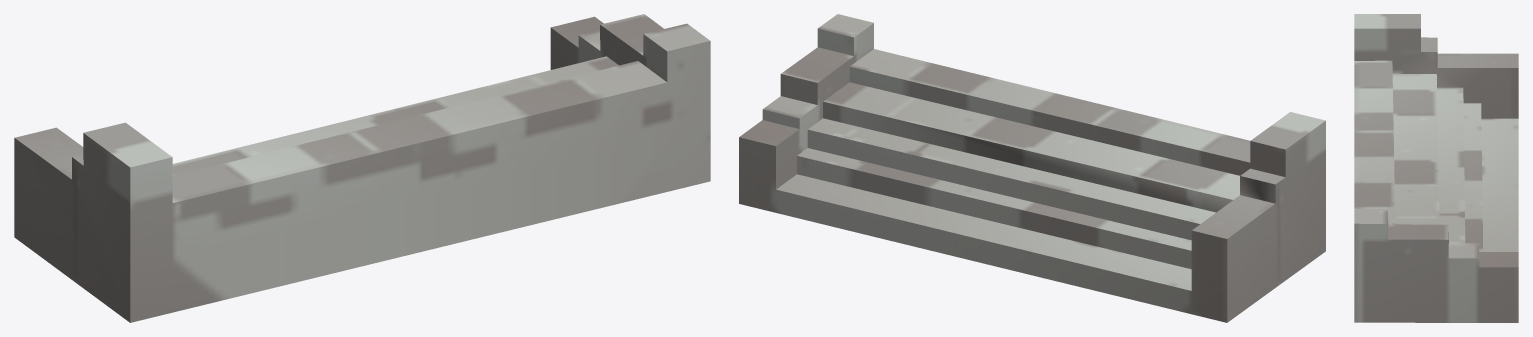
File: Step_004.fbx
The picture shows the model from 3 angles, left to right: view 1: azimuth 30°, elevation 25°; view 2: azimuth 150°, elevation 25°; view 3: azimuth 270°, elevation 25°; orthographic projection. The views are drawn at different scales.
Visible parts, largest first — view 1: Step_004; view 2: Step_004; view 3: Step_004.
Part boxes in pixels (x1,y1,x2,y2): Step_004: (14,14,710,322); Step_004: (739,14,1325,322); Step_004: (1354,14,1518,322).
Bounding box in the file's own units: 3.46 × 1.2 × 0.8836.
